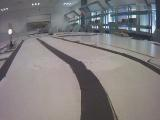tl_yellow: (8, 23, 15, 42)
